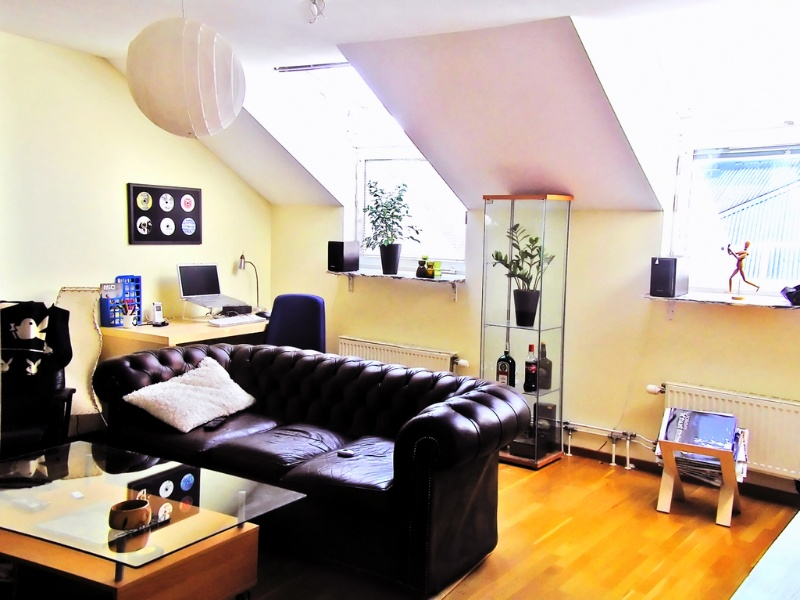couch: (94, 334, 522, 586)
